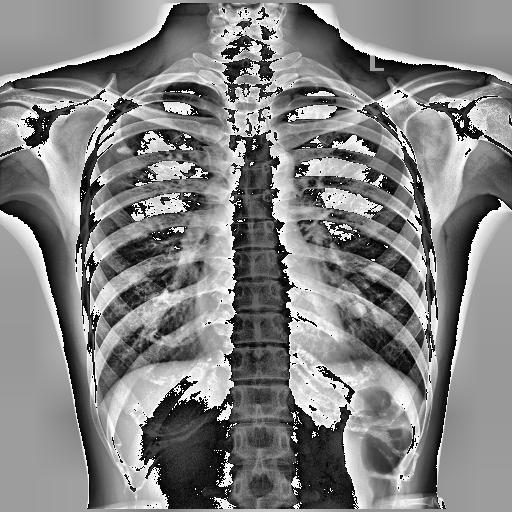11- Pleural thickening: (333, 86, 365, 107), (140, 79, 175, 98)
13- Pulmonary fibrosis: (110, 144, 183, 187)
2- Calcification: (110, 144, 183, 187), (116, 144, 133, 155)
8- Nodule-Mass: (350, 299, 366, 318), (116, 144, 133, 155), (115, 146, 133, 156)
9- Other lesion: (350, 299, 366, 318)
